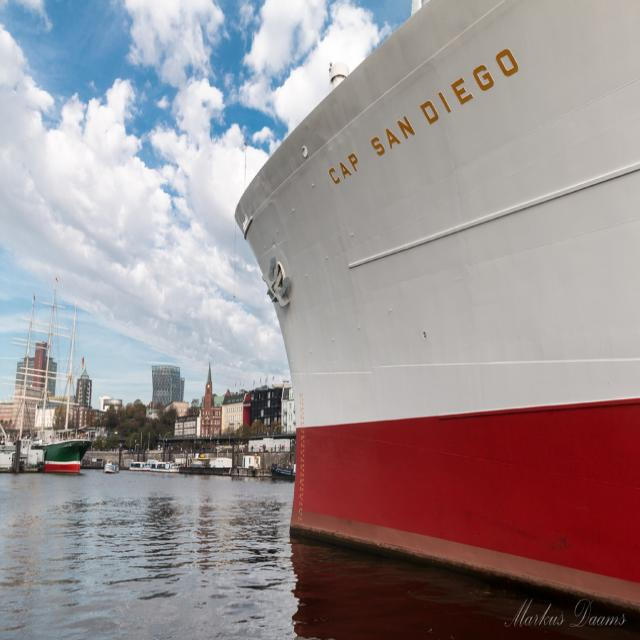Boat: (237, 0, 630, 609), (0, 282, 92, 478), (271, 458, 296, 482), (151, 463, 180, 476), (129, 456, 151, 470), (102, 460, 118, 476)
